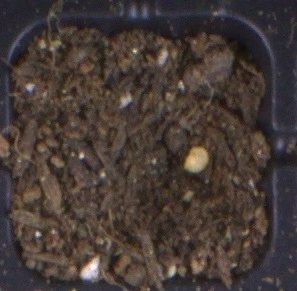chilli seed: (183, 145, 210, 174)
